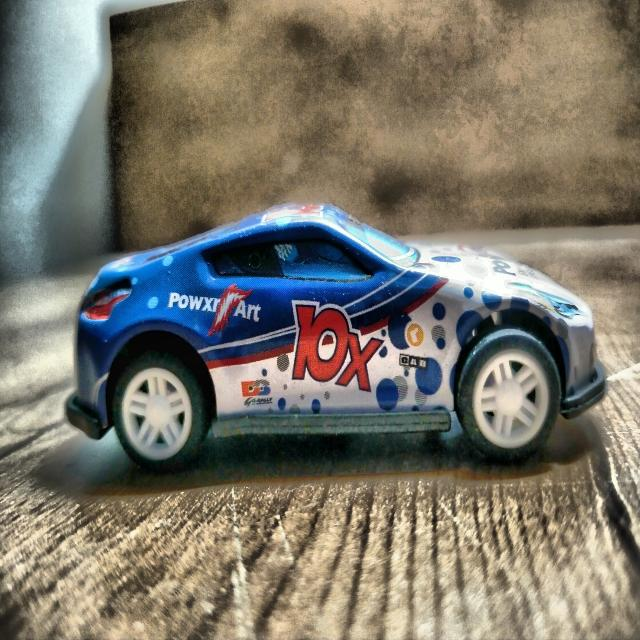Car: (66, 204, 605, 469)
